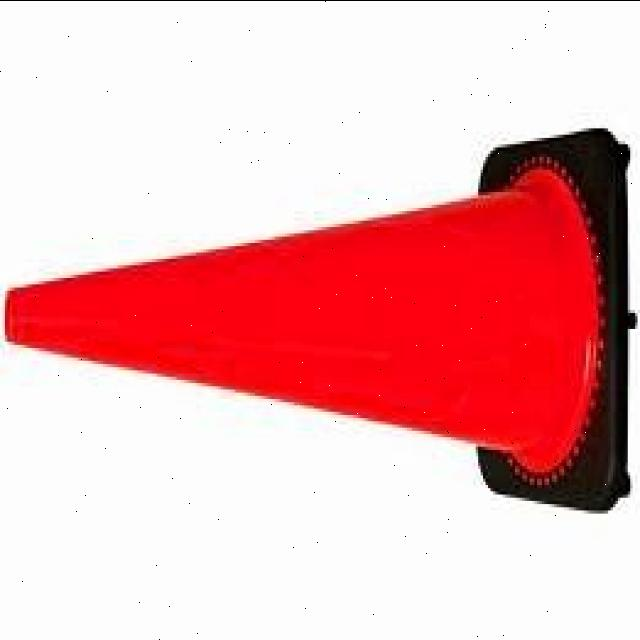traffic cone: (1, 116, 640, 530)
